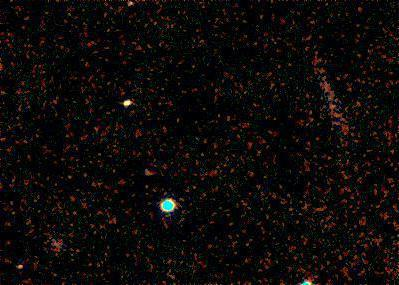star: (113, 90, 143, 120)
